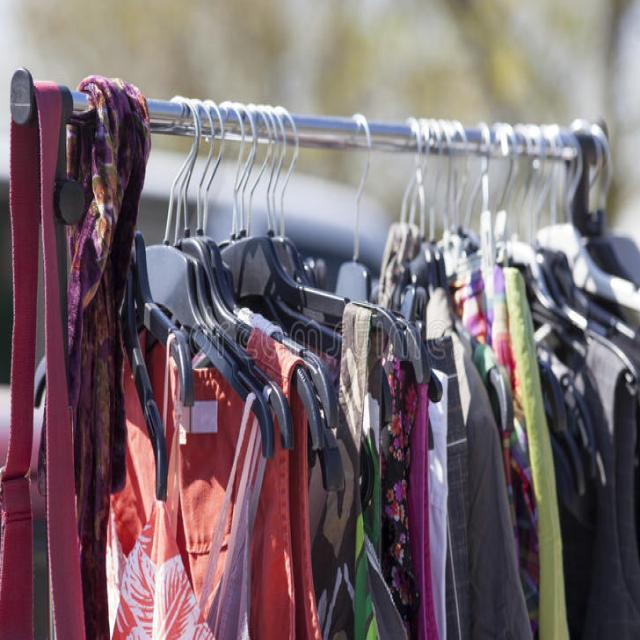clothes: (77, 136, 640, 640)
